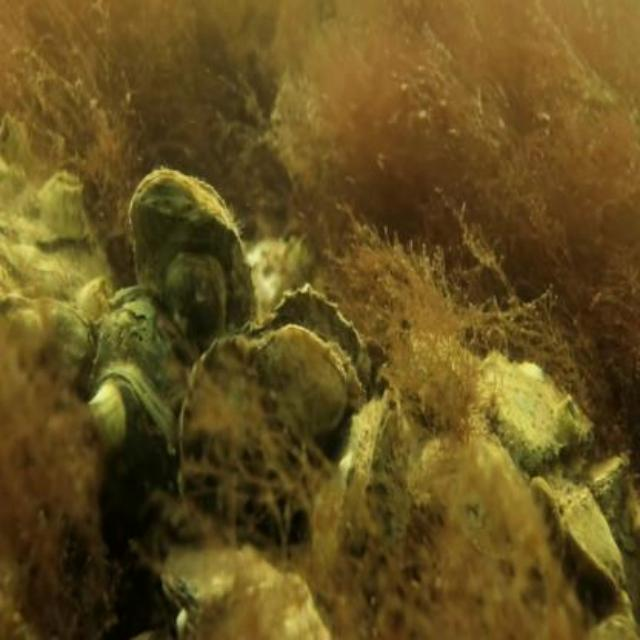Oyster-Closed: (128, 167, 254, 321), (480, 346, 591, 460), (86, 360, 181, 486), (94, 290, 198, 401), (188, 563, 335, 640), (532, 474, 623, 595), (160, 531, 266, 620), (0, 302, 99, 391), (166, 254, 226, 346)
Oyster-Open: (212, 283, 366, 442)
